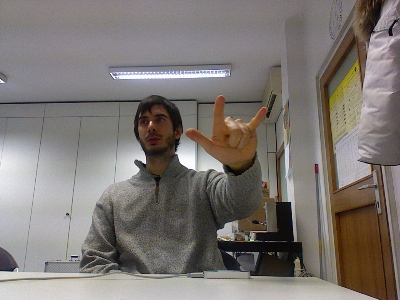我爱你: (183, 93, 268, 166)
